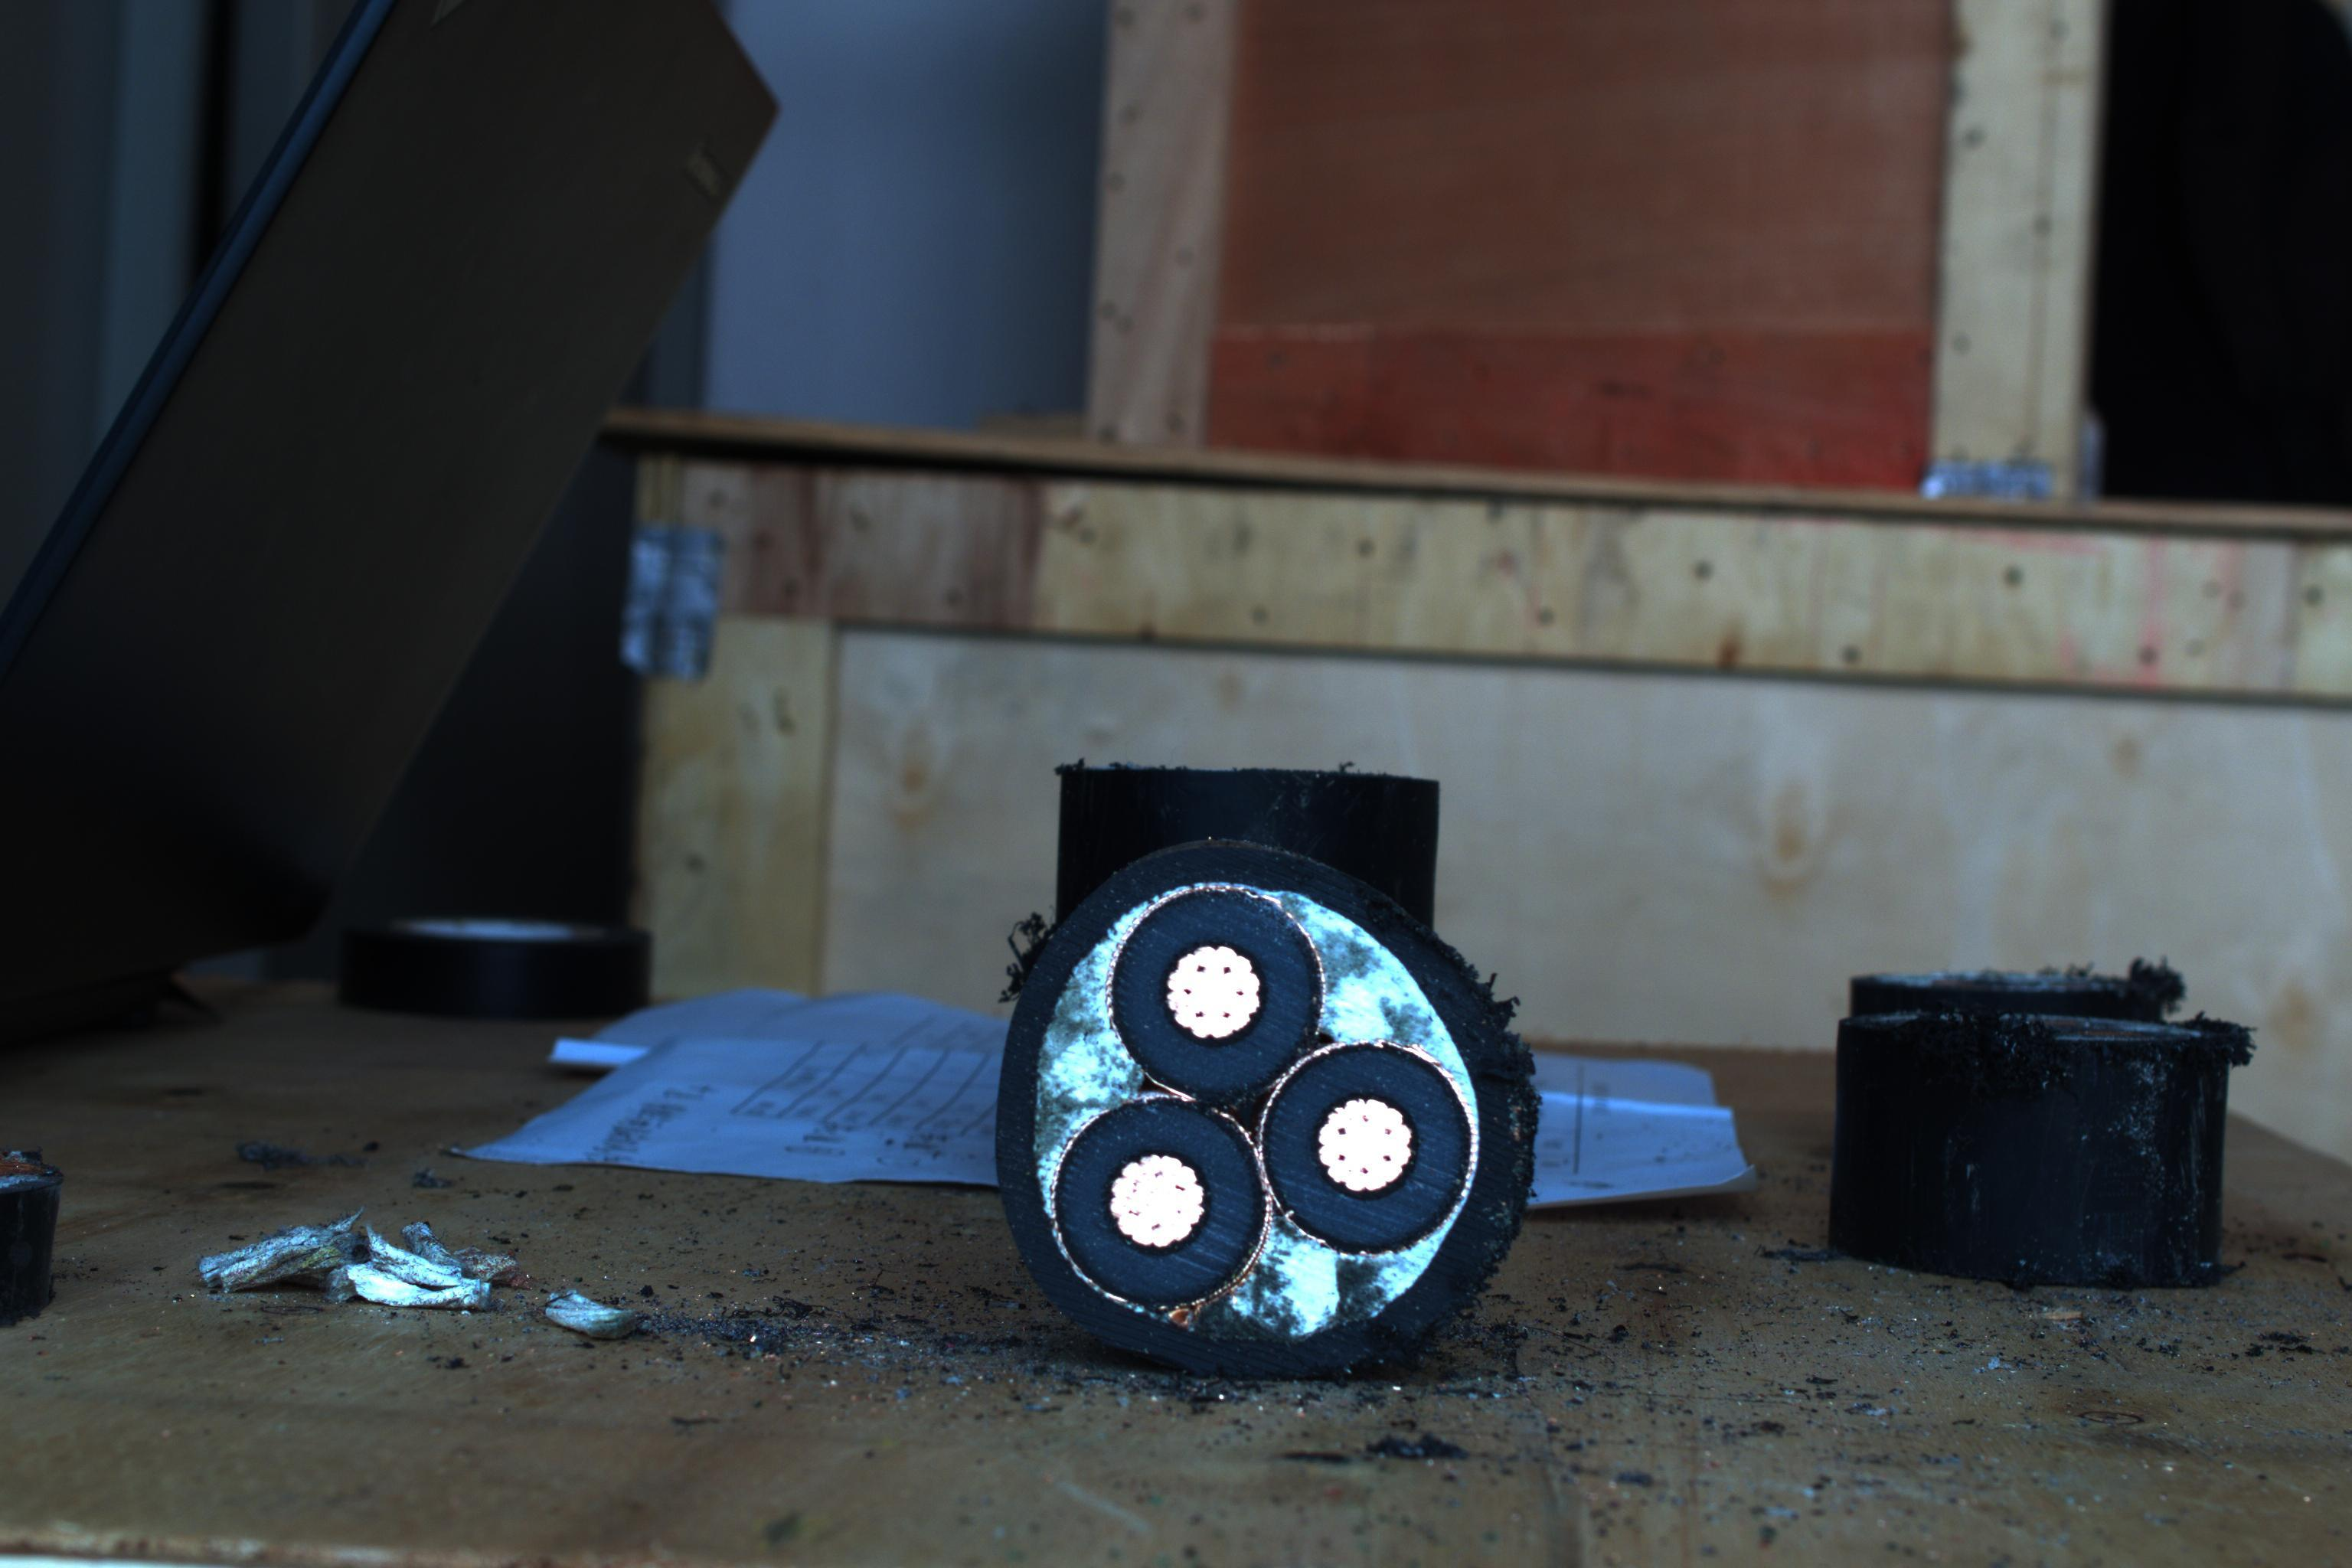YJV_8.7_10kV_3x70: (955, 833, 1515, 1354)
